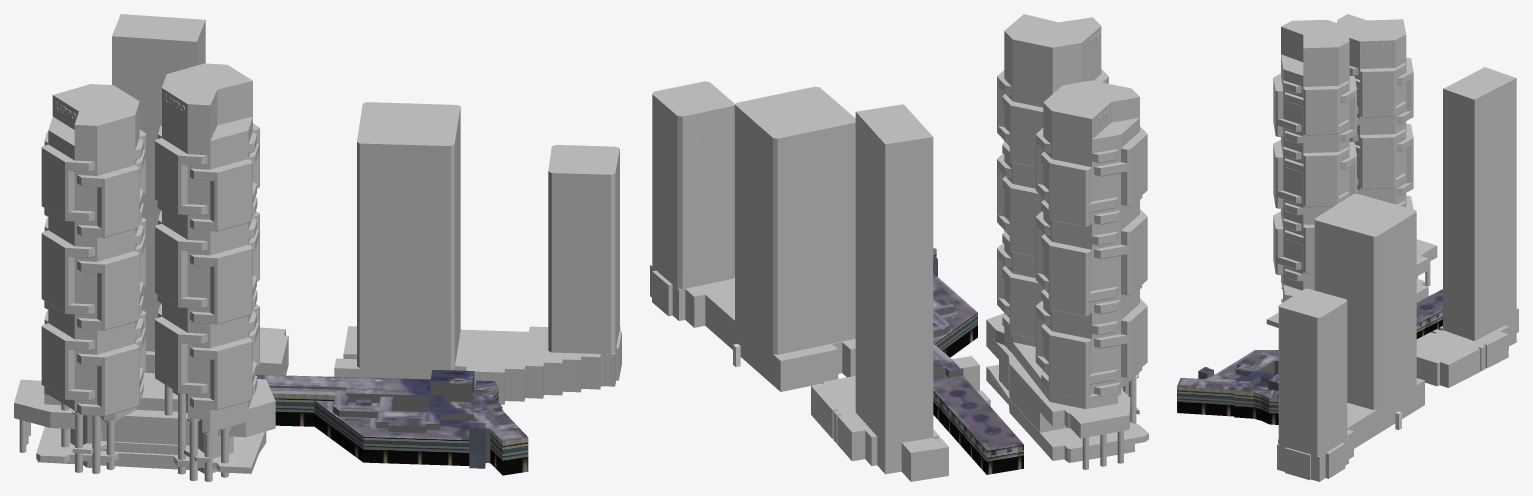
The model's file is island1.fbx.
3 views of the same model, side by side, from view 1: azimuth 30°, elevation 25°; view 2: azimuth 150°, elevation 25°; view 3: azimuth 270°, elevation 25° (orthographic). The views are drawn at different scales.
Parts seen in each view (by area): view 1: B349111558201063A0.001, B348641561601063A0.001, B350521562801062C1.001, B349971553901062E0.001, B348961562202063B0.001, B350991560401062C1.001, B350621560802062C2.001, B349431568801062C0.001, B349531567602062C1.001; view 2: B348641561601063A0.001, B350521562801062C1.001, B349431568801062C0.001, B349111558201063A0.001, B350991560401062C1.001, B348961562202063B0.001, B349971553901062E0.001, B350621560802062C2.001, B349531567602062C1.001, B34943156120106012.001; view 3: B349431568801062C0.001, B349111558201063A0.001, B350521562801062C1.001, B350991560401062C1.001, B348641561601063A0.001, B349971553901062E0.001, B349531567602062C1.001, B350621560802062C2.001, B348961562202063B0.001.
Boxes of the visible parts, box(x1,y1,x2,y2) form: B349111558201063A0.001: box(155, 63, 259, 419); B348641561601063A0.001: box(41, 84, 146, 416); B350521562801062C1.001: box(357, 102, 460, 370); B349971553901062E0.001: box(255, 370, 528, 475); B348961562202063B0.001: box(14, 372, 275, 481); B350991560401062C1.001: box(548, 145, 619, 354); B350621560802062C2.001: box(334, 326, 621, 404); B349431568801062C0.001: box(112, 14, 205, 351); B349531567602062C1.001: box(145, 327, 288, 375); B348641561601063A0.001: box(1035, 80, 1147, 398); B350521562801062C1.001: box(735, 86, 855, 354); B349431568801062C0.001: box(855, 104, 933, 445); B349111558201063A0.001: box(997, 14, 1108, 346); B350991560401062C1.001: box(652, 81, 734, 289); B348961562202063B0.001: box(986, 313, 1148, 469); B349971553901062E0.001: box(933, 248, 1023, 474); B350621560802062C2.001: box(650, 265, 855, 391); B349531567602062C1.001: box(811, 375, 948, 481); B34943156120106012.001: box(952, 356, 979, 391); B349431568801062C0.001: box(1443, 67, 1516, 340); B349111558201063A0.001: box(1273, 19, 1356, 290); B350521562801062C1.001: box(1314, 194, 1416, 409); B350991560401062C1.001: box(1278, 288, 1347, 456); B348641561601063A0.001: box(1337, 14, 1413, 209); B349971553901062E0.001: box(1177, 289, 1442, 424); B349531567602062C1.001: box(1416, 308, 1518, 387); B350621560802062C2.001: box(1277, 378, 1424, 481); B348961562202063B0.001: box(1266, 239, 1437, 327).
Size of the model in its own units: 24490 by 16037 by 17017.
